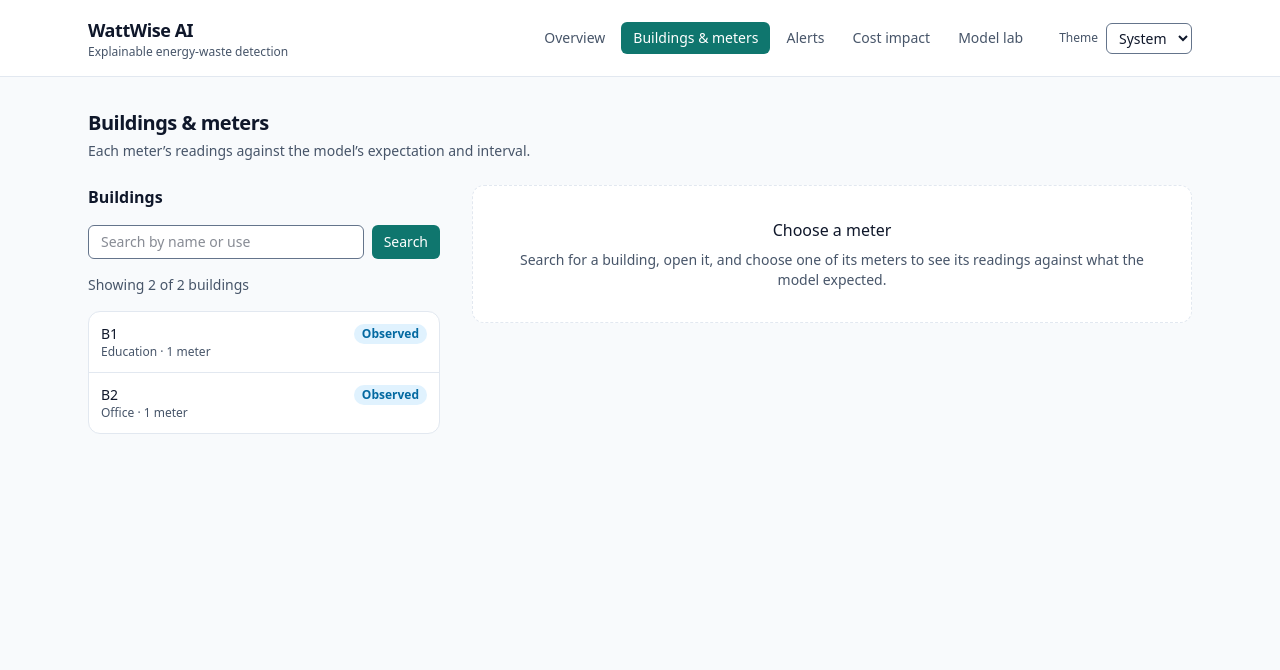
Test: Explorer: a meter › says what the model is, where it applies, and how well its interval held
This screenshot has width=1280, height=670.
Click the button "B1 Education · 1 meter Observed": (129, 352) [101,324,427,360]
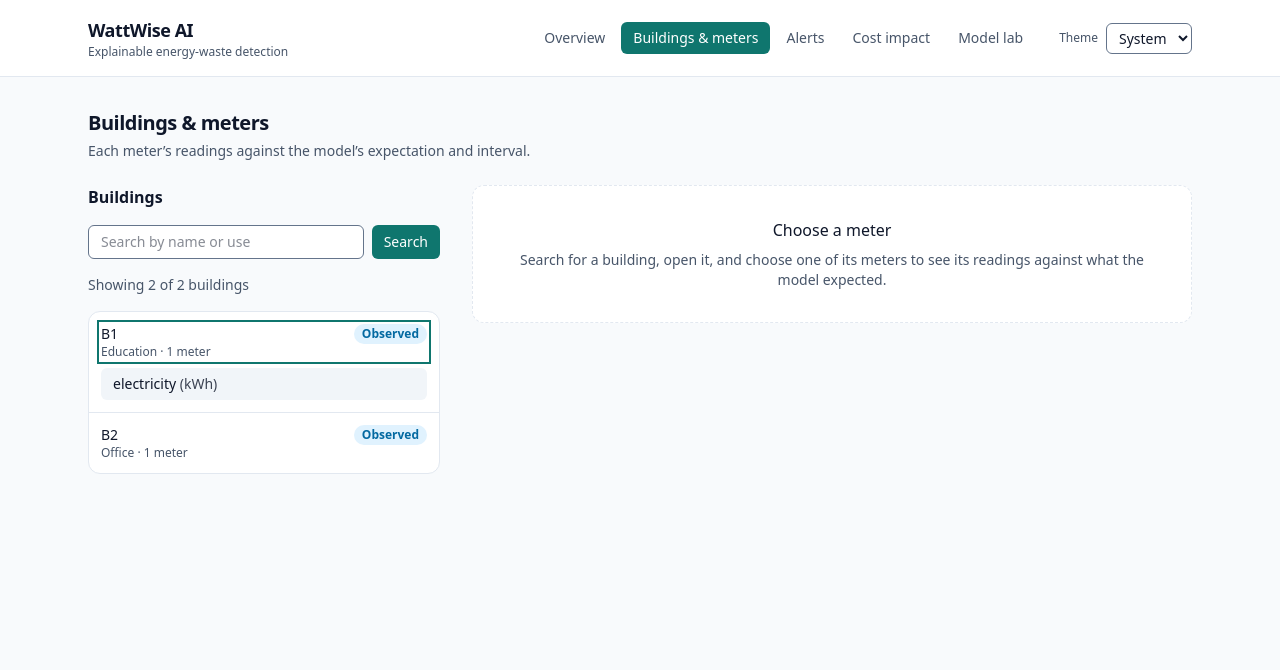
Click the button "electricity (kWh)": (145, 384) [101,368,427,400]
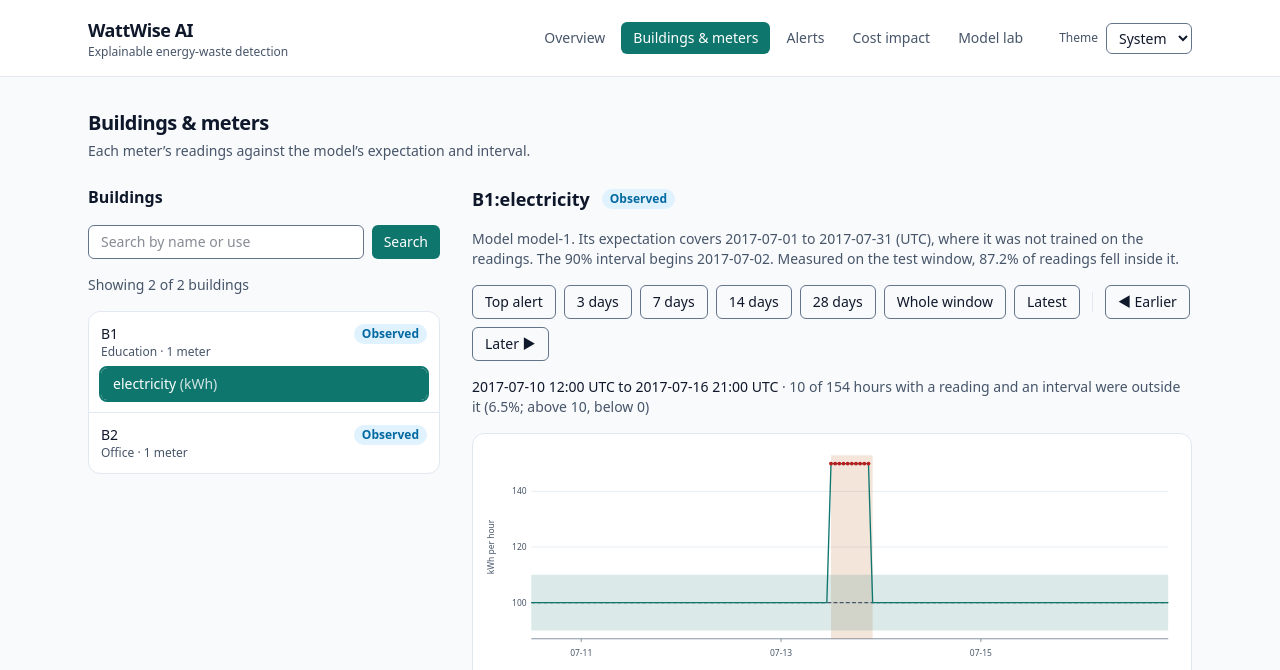
Expected: the element named "Meter B1:electricity" shows "where it was not trained on the readings", [472,229,1143,268]
Expected: the element named "Meter B1:electricity" shows "87.2%", [774,249,1179,268]
Expected: the element titled "Measured by real meters" next to "B1:electricity" is shown, [602,189,675,209]
